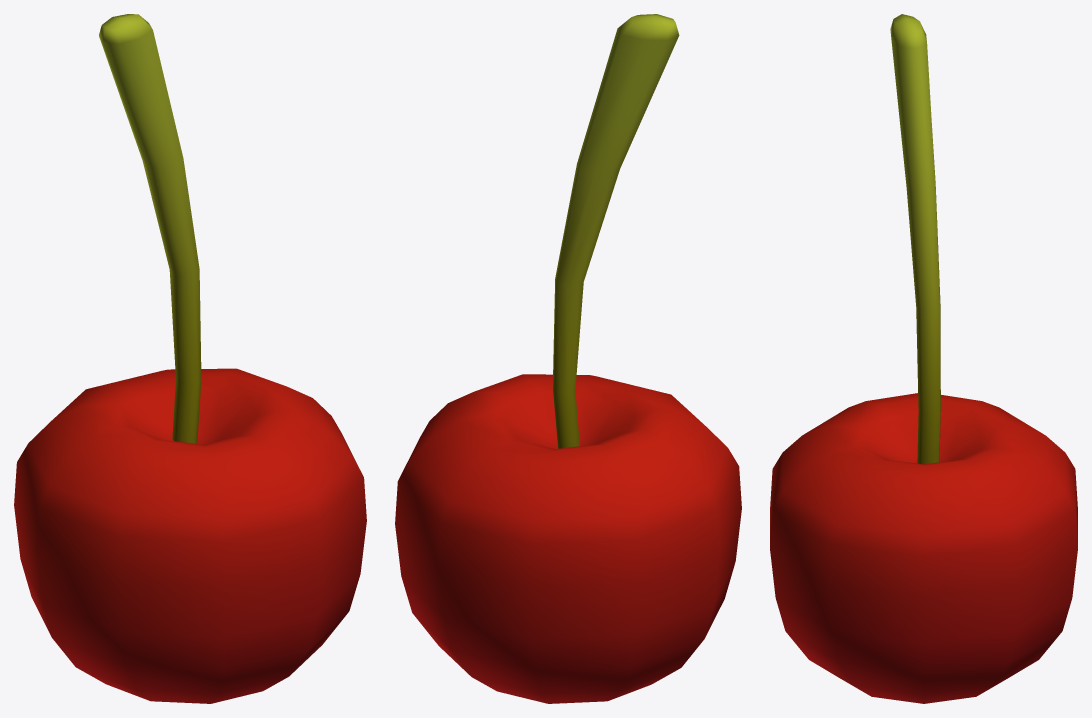
The model's file is Cherry.fbx.
The picture shows the model from 3 angles, left to right: view 1: azimuth 30°, elevation 25°; view 2: azimuth 150°, elevation 25°; view 3: azimuth 270°, elevation 25°; orthographic projection. The views are drawn at different scales.
Visible parts, largest first — view 1: Cherry; view 2: Cherry; view 3: Cherry.
Boxes of the visible parts, x1,y1,x2,y2 form: Cherry: (14, 14, 366, 703); Cherry: (395, 14, 741, 703); Cherry: (770, 14, 1077, 703).
Size of the model in its own units: 5.69 by 12.23 by 5.41.
